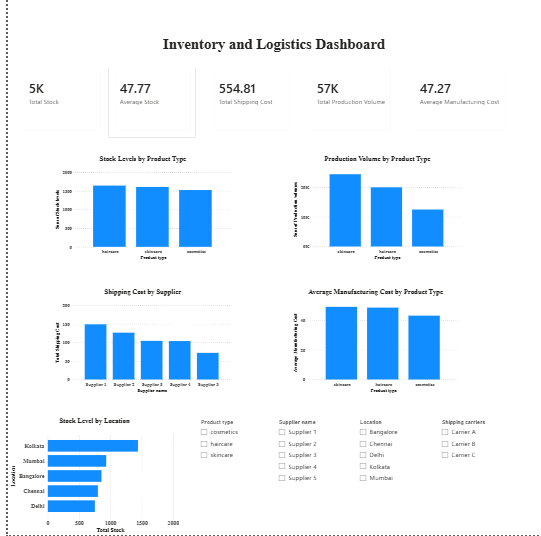

What the dashboard file says about the page in this screenshot:
{"tool":"powerbi","page":{"name":"Inventory & Logistics Dashboard","canvas":[1350,1370],"ordinal":2},"visuals":[{"type":"cardVisual","fields":{"Data":["clean_products.Average Stock","clean_products.Average Stock"]},"box":[254,130,224,232],"z":0},{"type":"cardVisual","fields":{"Data":["clean_products.Total Shipping Cost"]},"box":[506,130,228,232],"z":1000},{"type":"cardVisual","fields":{"Data":["clean_products.Total Production Volume"]},"box":[754,130,232,232],"z":2000},{"type":"cardVisual","fields":{"Data":["clean_products.Average Manufacturing Cost"]},"box":[1014,130,266,232],"z":3000},{"type":"cardVisual","fields":{"Data":["clean_products.Total Stock"]},"box":[24,130,230,232],"z":4000},{"type":"clusteredColumnChart","title":"Stock Levels by Product Type","fields":{"Category":["clean_products.Product type"],"Y":["Sum(clean_products.Stock levels)"]},"box":[113.3,406.7,456,272],"z":5000},{"type":"clusteredColumnChart","title":"Production Volume by Product Type","fields":{"Category":["clean_products.Product type"],"Y":["Sum(clean_products.Production volumes)"]},"box":[717.8,406.7,437.8,271.1],"z":6000},{"type":"clusteredColumnChart","title":"Shipping Cost by Supplier","fields":{"Category":["clean_products.Supplier name"],"Y":["clean_products.Total Shipping Cost"]},"box":[113.3,744.4,455.6,271.1],"z":6001},{"type":"clusteredColumnChart","title":"Average Manufacturing Cost by Product Type","fields":{"Category":["clean_products.Product type"],"Y":["clean_products.Average Manufacturing Cost"]},"box":[717.8,744.4,428.9,271.1],"z":6002},{"type":"clusteredBarChart","title":"Stock Level by Location","fields":{"Category":["clean_products.Location"],"Y":["clean_products.Total Stock"]},"box":[0,1070.6,438.9,299.4],"z":6003},{"type":"slicer","fields":{"Values":["clean_products.Product type"]},"box":[477,1070.6,177.6,190.3],"z":6004},{"type":"slicer","fields":{"Values":["clean_products.Supplier name"]},"box":[674.9,1070.6,177,190.3],"z":6005},{"type":"slicer","fields":{"Values":["clean_products.Location"]},"box":[880.4,1070.6,177,190.3],"z":6006},{"type":"slicer","fields":{"Values":["clean_products.Shipping carriers"]},"box":[1088,1071,177,190],"z":6007},{"type":"textbox","box":[1147,744,150,271],"z":6008},{"type":"textbox","box":[53.3,98.9,1243.1,86.3],"z":6009}]}

Visuals, with their boxes in screenshot pixels (x1, y1, x2, y2), scaled from the page's 1350x1370 canvas onto the 541x536 screenshot:
cardVisual - clean_products.Average Stock x clean_products.Average Stock: bbox=[102, 51, 192, 142]
cardVisual - clean_products.Total Shipping Cost: bbox=[203, 51, 294, 142]
cardVisual - clean_products.Total Production Volume: bbox=[302, 51, 395, 142]
cardVisual - clean_products.Average Manufacturing Cost: bbox=[406, 51, 513, 142]
cardVisual - clean_products.Total Stock: bbox=[10, 51, 102, 142]
"Stock Levels by Product Type" clusteredColumnChart: bbox=[45, 159, 228, 266]
"Production Volume by Product Type" clusteredColumnChart: bbox=[288, 159, 463, 265]
"Shipping Cost by Supplier" clusteredColumnChart: bbox=[45, 291, 228, 397]
"Average Manufacturing Cost by Product Type" clusteredColumnChart: bbox=[288, 291, 460, 397]
"Stock Level by Location" clusteredBarChart: bbox=[0, 419, 176, 535]
slicer - clean_products.Product type: bbox=[191, 419, 262, 493]
slicer - clean_products.Supplier name: bbox=[270, 419, 341, 493]
slicer - clean_products.Location: bbox=[353, 419, 424, 493]
slicer - clean_products.Shipping carriers: bbox=[436, 419, 507, 493]
textbox: bbox=[460, 291, 520, 397]
textbox: bbox=[21, 39, 520, 72]
